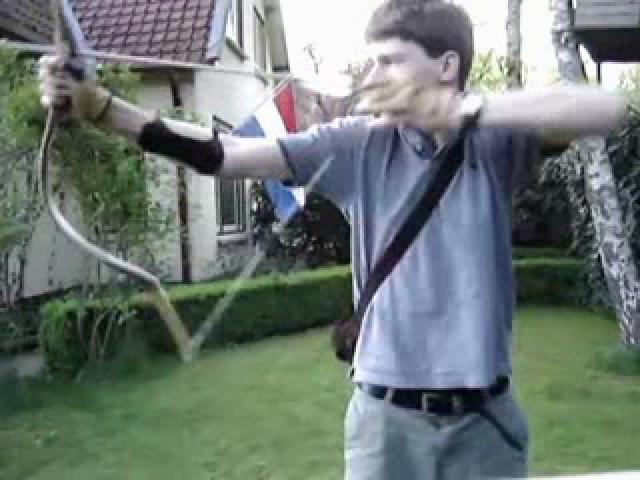P: (40, 5, 630, 476)
